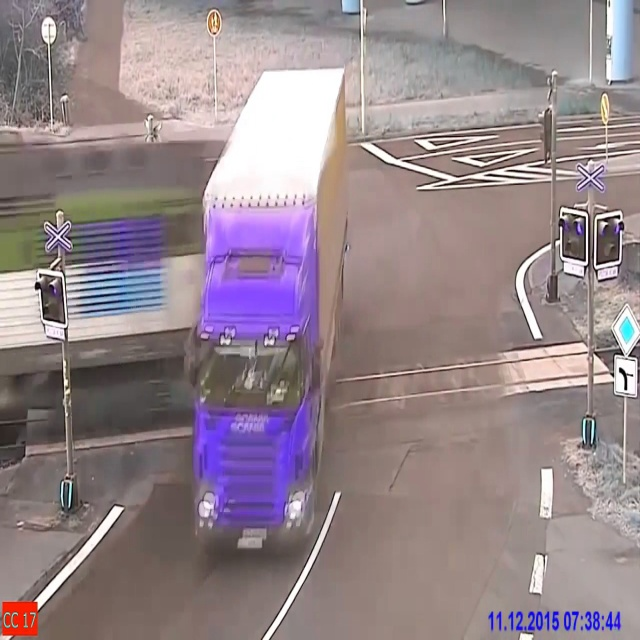acc: (83, 124, 373, 418)
